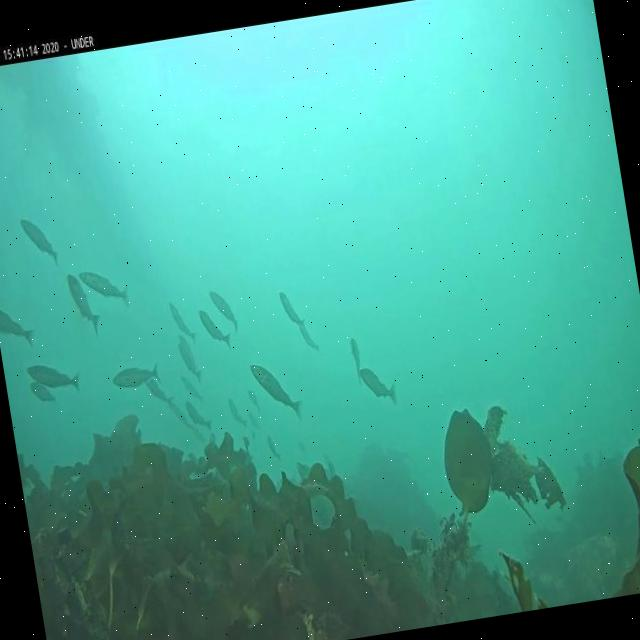fish: (250, 357, 307, 425), (65, 270, 106, 340), (80, 262, 135, 312), (29, 356, 81, 396), (20, 212, 60, 262), (0, 301, 36, 354), (359, 363, 399, 410), (207, 286, 242, 334), (200, 310, 232, 349), (114, 362, 160, 388), (167, 300, 195, 340), (28, 382, 57, 416), (178, 339, 200, 380), (298, 320, 323, 356), (281, 291, 303, 327), (349, 337, 365, 386), (186, 401, 211, 432), (226, 395, 246, 430), (151, 381, 172, 406), (170, 401, 187, 428), (184, 378, 202, 402), (266, 441, 280, 460), (250, 389, 260, 414), (250, 414, 262, 434)
